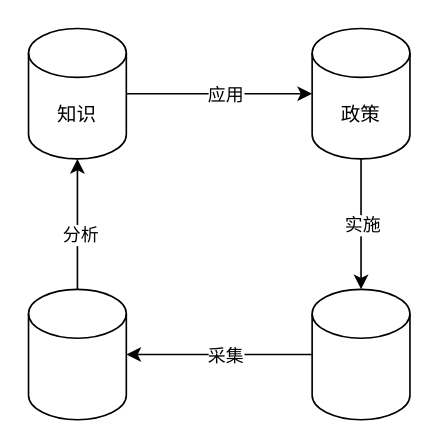
Some shapes in this 438 by 448 pixel diagram are drawn without their labels. The shapes that lost their labels are listed below. From the top down, each one's box as (x1, y1, x2, y2) in pixels, then its label:
(27, 288, 126, 420): 数据
(311, 288, 410, 420): 效果
